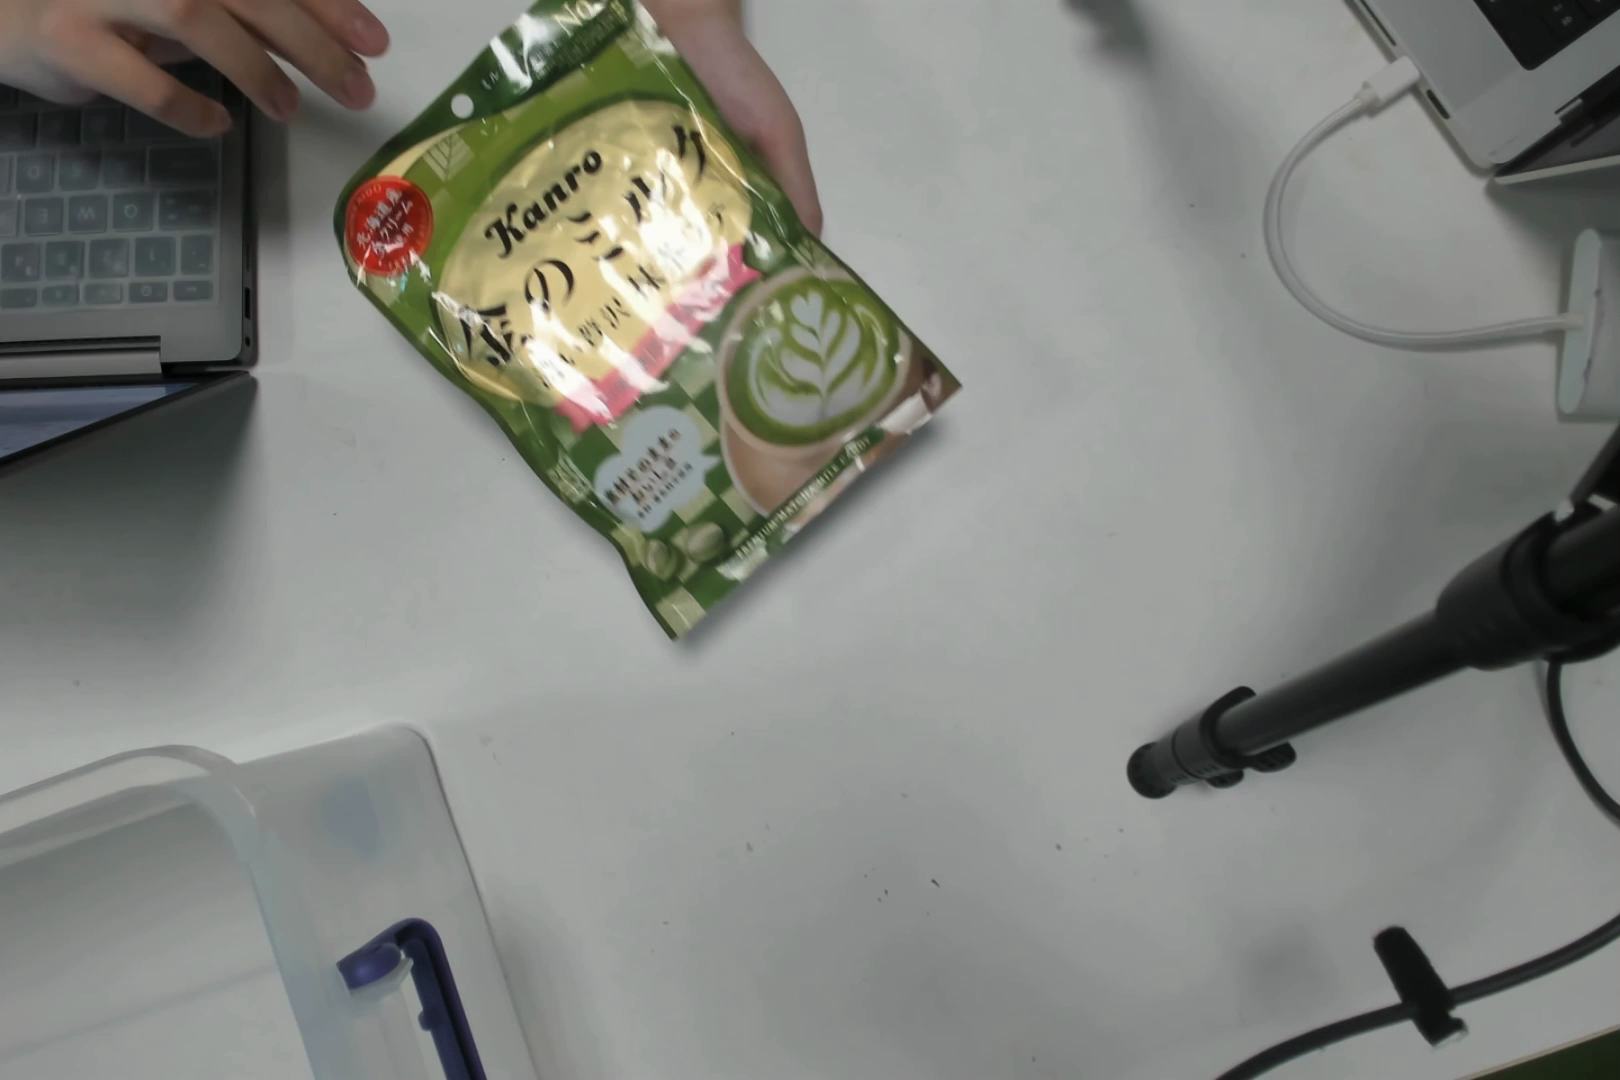SweetsChocolatesOthers_1-99g_NonHalal_NonHealthy: (444, 60, 893, 551)
